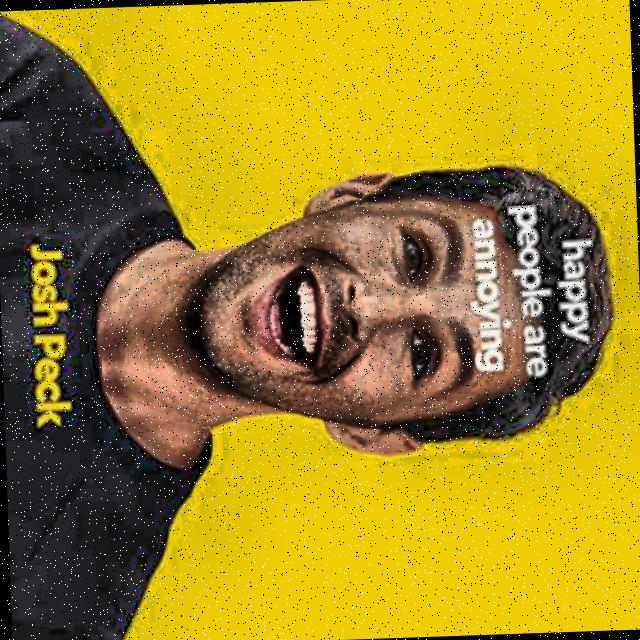happy: (174, 139, 623, 474)
